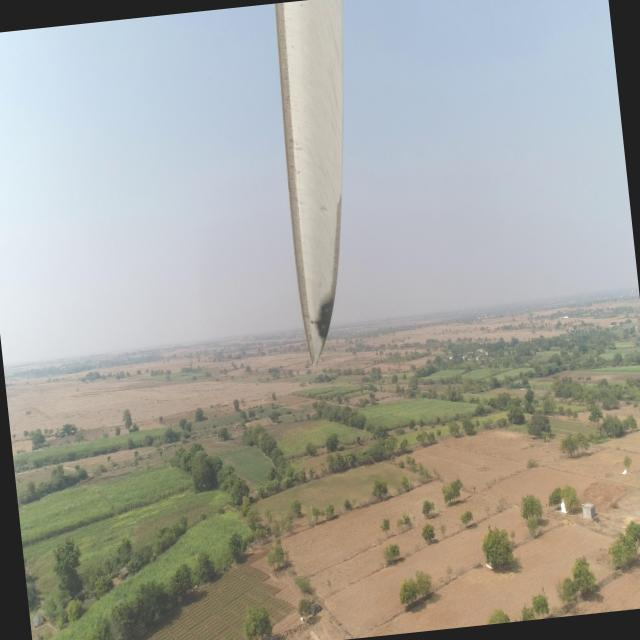Dirt: (287, 118, 350, 356)
Oil LEAKAGE: (313, 302, 337, 344)
